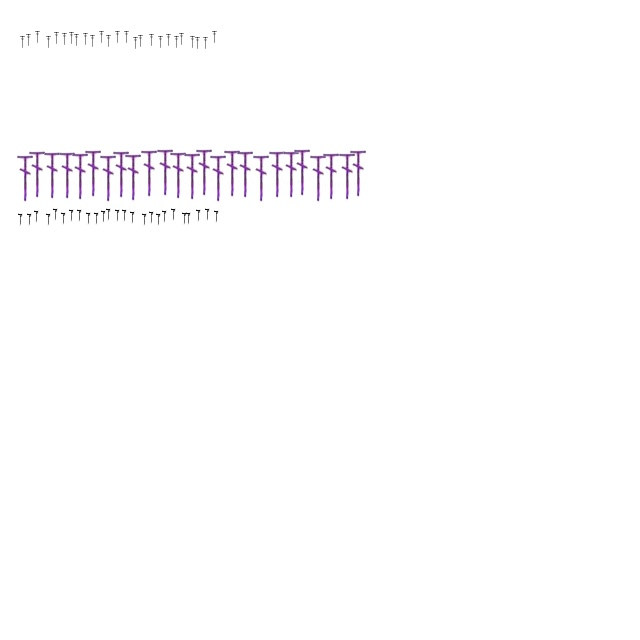double treble: (44, 150, 60, 200), (59, 150, 75, 200), (85, 148, 101, 198), (125, 152, 141, 202), (141, 148, 157, 198), (170, 150, 186, 200), (224, 148, 240, 198), (350, 148, 366, 198), (17, 154, 33, 202), (29, 150, 45, 198), (72, 152, 88, 200), (100, 154, 116, 202), (113, 150, 129, 198), (157, 148, 173, 196), (184, 152, 200, 200), (196, 148, 212, 196), (210, 154, 226, 202), (237, 150, 253, 198), (253, 154, 269, 202), (269, 150, 285, 198), (283, 150, 299, 198), (294, 148, 310, 196), (310, 154, 326, 202), (323, 152, 339, 200), (339, 152, 355, 200), (34, 210, 40, 224), (86, 212, 92, 226), (94, 212, 100, 226), (106, 208, 112, 222), (162, 210, 168, 224), (182, 212, 188, 226), (186, 212, 192, 226), (214, 210, 220, 224), (20, 36, 26, 48), (26, 34, 32, 46), (46, 36, 52, 48), (54, 32, 60, 44), (62, 33, 68, 45), (74, 34, 80, 46), (90, 35, 96, 47), (106, 35, 112, 47), (124, 31, 130, 43), (138, 35, 144, 47), (158, 36, 164, 48), (166, 34, 172, 46), (174, 36, 180, 48), (190, 36, 196, 48), (212, 31, 218, 43), (18, 214, 24, 226), (46, 214, 52, 226), (122, 210, 128, 222), (130, 212, 136, 224), (142, 214, 148, 226), (156, 214, 162, 226), (196, 210, 202, 222), (54, 208, 58, 222), (62, 212, 66, 226), (102, 210, 106, 224), (172, 208, 176, 222), (206, 208, 210, 222), (36, 31, 40, 43), (70, 32, 74, 44), (84, 33, 88, 45), (100, 31, 104, 43), (116, 31, 120, 43), (134, 37, 138, 49), (150, 34, 154, 46), (180, 33, 184, 45), (196, 37, 200, 49), (204, 37, 208, 49), (28, 214, 32, 226), (70, 210, 74, 222), (78, 210, 82, 222), (116, 210, 120, 222), (150, 212, 154, 224)
